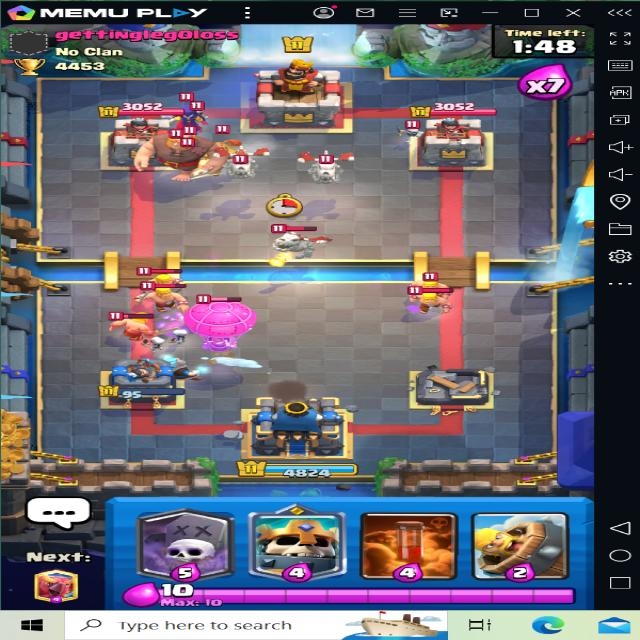Balloon: (190, 295, 258, 353)
Barbarian: (407, 283, 453, 314), (137, 285, 191, 310), (114, 311, 160, 338), (138, 270, 185, 294), (410, 272, 458, 294)
Giant: (144, 129, 233, 180)
Prince: (193, 132, 243, 186)
Skeleton: (397, 120, 420, 140), (190, 104, 208, 120)
Skeletondragon: (218, 147, 277, 183), (296, 147, 353, 184), (260, 226, 321, 257)
witch: (158, 97, 212, 137)
